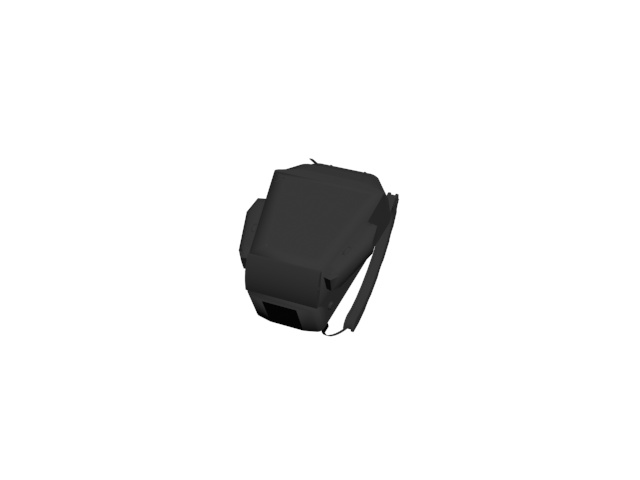back_pack: (233, 153, 400, 344)
